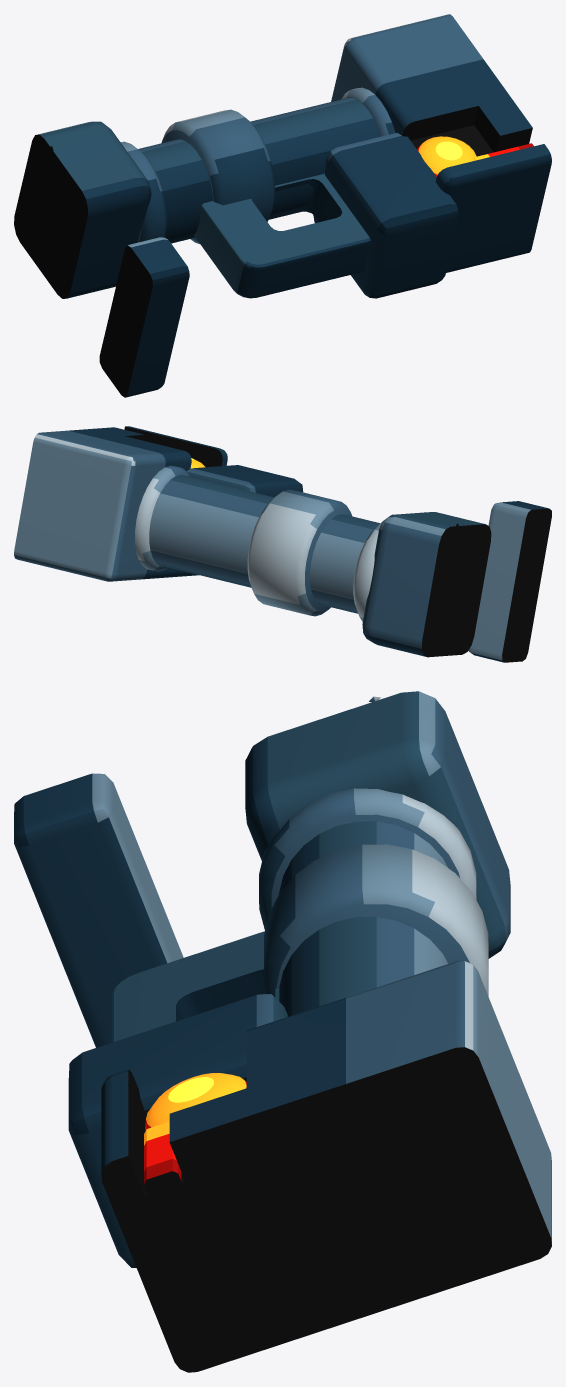
File: deli_cannon_barrel.glb
The picture shows the model from 3 angles, top to bottom: view 1: azimuth 30°, elevation 25°; view 2: azimuth 150°, elevation 25°; view 3: azimuth 270°, elevation 25°; orthographic projection. The views are drawn at different scales.
Parts seen in each view (by area): view 1: housing.001, hull.001, side_block.001, loop.001, barrel.001, ledge.001, collar1.001, collar0.001, lens.001, collar2.001; view 2: housing.001, hull.001, barrel.001, ledge.001, collar1.001, side_block.001, collar2.001, collar0.001; view 3: housing.001, hull.001, ledge.001, collar1.001, side_block.001, barrel.001, loop.001, collar0.001, lens.001, glow_strip.001.
Boxes of the visible parts, x1,y1,x2,y2 form: housing.001: (331,14,551,272); hull.001: (14,121,151,298); side_block.001: (313,133,459,298); loop.001: (194,173,370,298); barrel.001: (138,97,380,243); ledge.001: (99,237,189,397); collar1.001: (161,109,274,243); collar0.001: (120,141,166,242); lens.001: (417,136,476,176); collar2.001: (341,87,395,136); housing.001: (14,426,227,581); hull.001: (362,512,491,657); barrel.001: (149,475,379,613); ledge.001: (468,501,551,662); collar1.001: (247,489,351,616); side_block.001: (187,465,303,497); collar2.001: (135,465,189,571); collar0.001: (353,522,382,621); housing.001: (101,960,551,1372); hull.001: (245,691,510,958); ledge.001: (14,773,183,1047); collar1.001: (264,844,488,997); side_block.001: (68,994,287,1267); barrel.001: (279,821,448,1016); loop.001: (110,931,279,1042); collar0.001: (259,788,476,930); lens.001: (145,1073,246,1130); glow_strip.001: (144,1121,181,1194).
Bounding box in the file's own units: 24 × 11.3 × 14.76.
